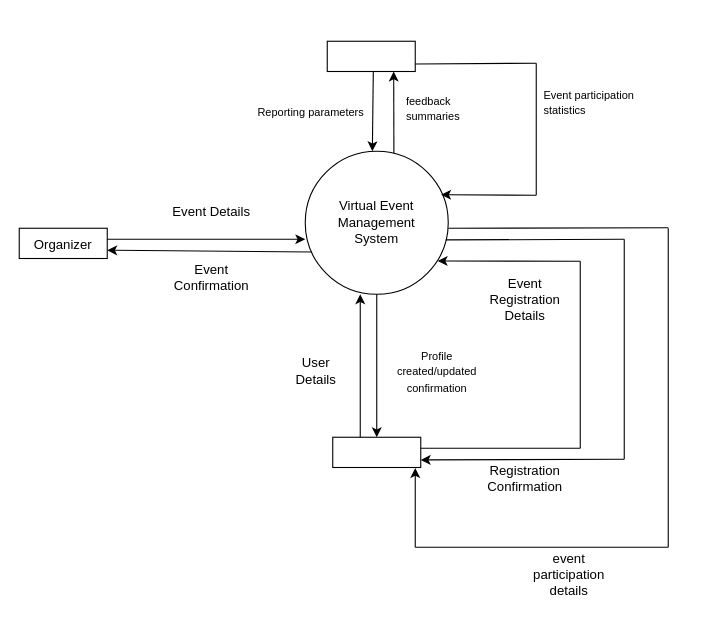
Some shapes in this 726 by 617 pixel diagram are drawn without their labels. Each missing label, with the centre of its shape:
Admin: point (370, 56)
Participant: point (376, 452)
